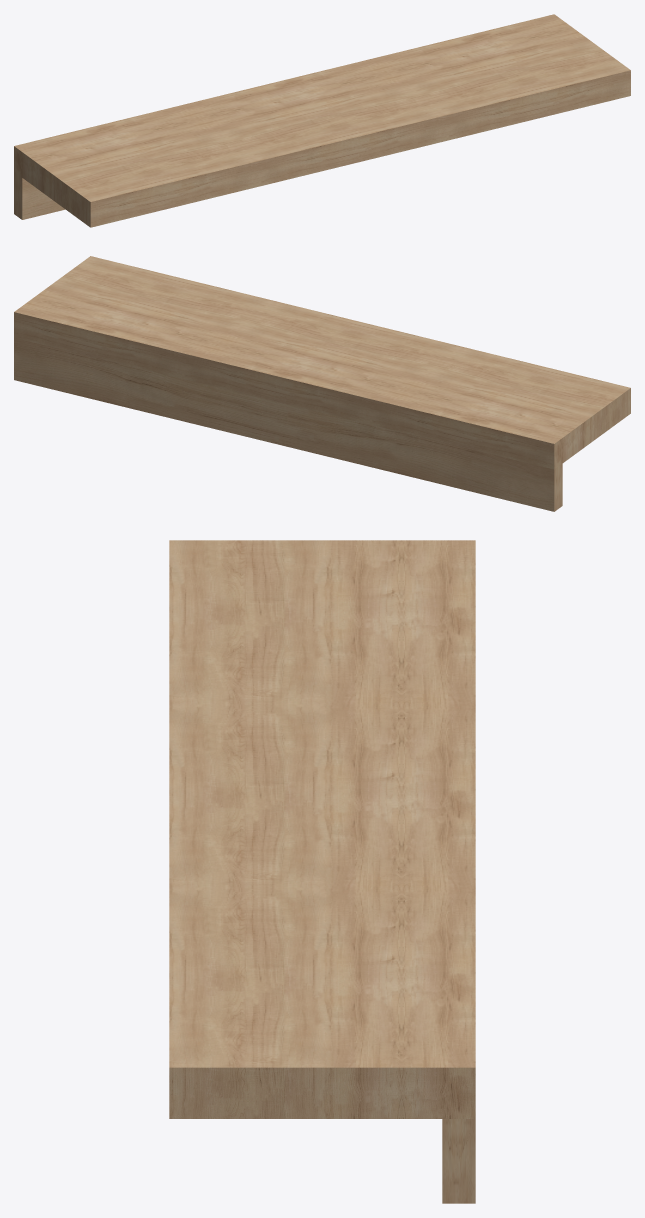
File: Shelf 2.fbx
The picture shows the model from 3 angles, top to bottom: view 1: azimuth 30°, elevation 25°; view 2: azimuth 150°, elevation 25°; view 3: azimuth 270°, elevation 25°; orthographic projection. The views are drawn at different scales.
Parts seen in each view (by area): view 1: shelf; view 2: shelf; view 3: shelf.
Boxes of the visible parts, x1,y1,x2,y2 form: shelf: [14, 14, 630, 227]; shelf: [14, 256, 630, 511]; shelf: [169, 540, 475, 1203].
Size of the model in its own units: 119 by 14.32 by 29.22.
1 material, 1 textured.
